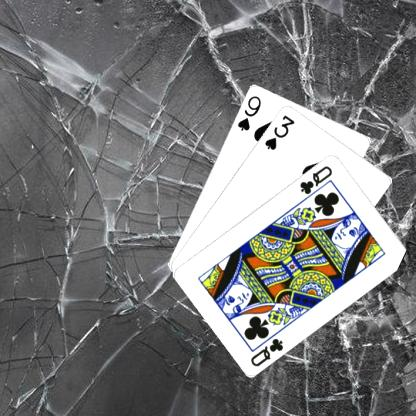3S: (262, 112, 296, 151)
9S: (234, 93, 262, 132)
QC: (296, 162, 334, 196), (248, 335, 285, 368)
